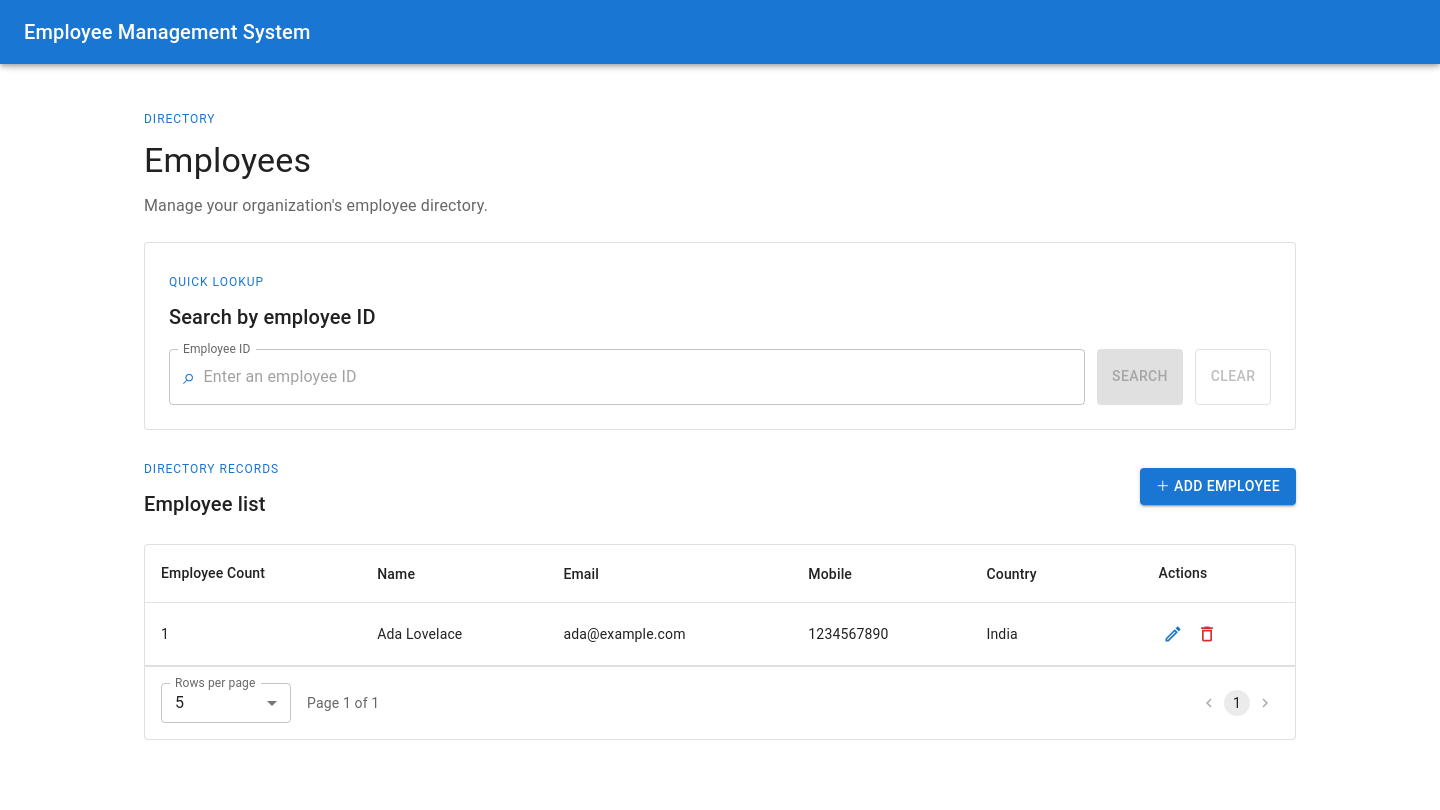
Scenario: App CRUD UI flows › opens delete confirmation and does not delete when cancelled
Click the button named "Delete Ada Lovelace" at [1208, 634], box x1=1192 y1=619 x2=1222 y2=649
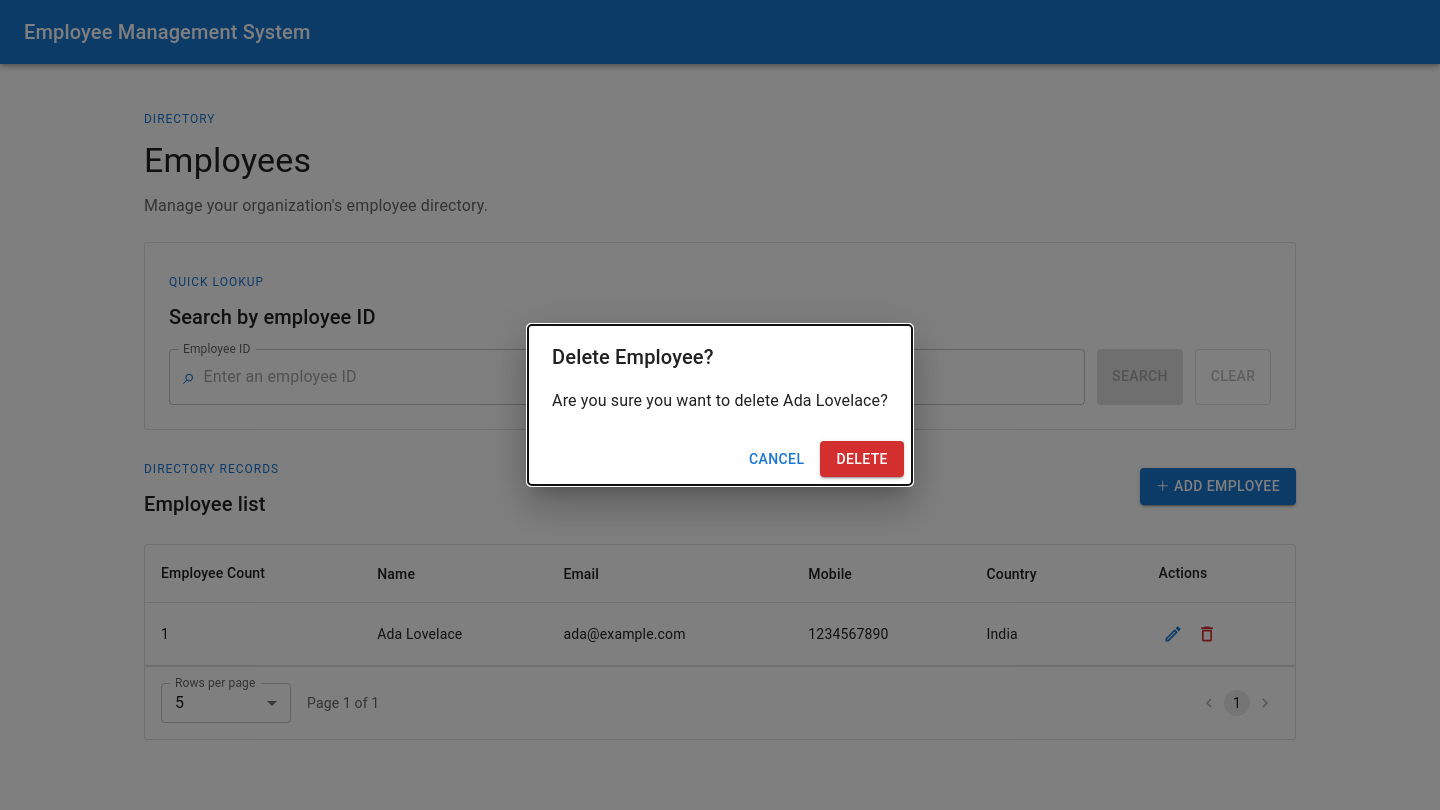
Check: the dialog "Delete Employee?" is shown, box x1=528 y1=325 x2=912 y2=485
Check: the heading "Delete Employee?" is shown, box x1=552 y1=345 x2=714 y2=369
Click the button "Cancel" at [777, 459], box x1=741 y1=441 x2=812 y2=477
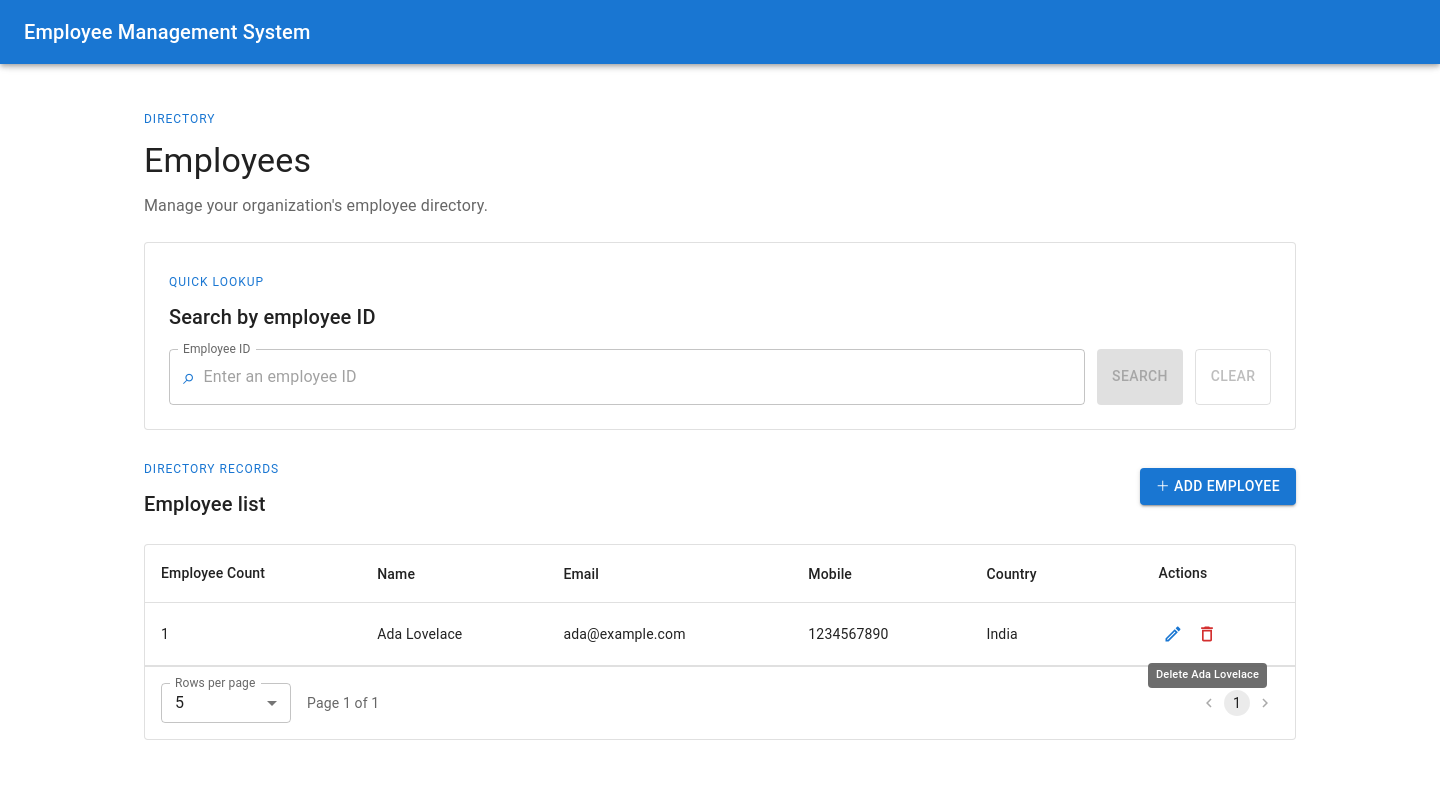
Check: the heading "Delete Employee?" is gone
